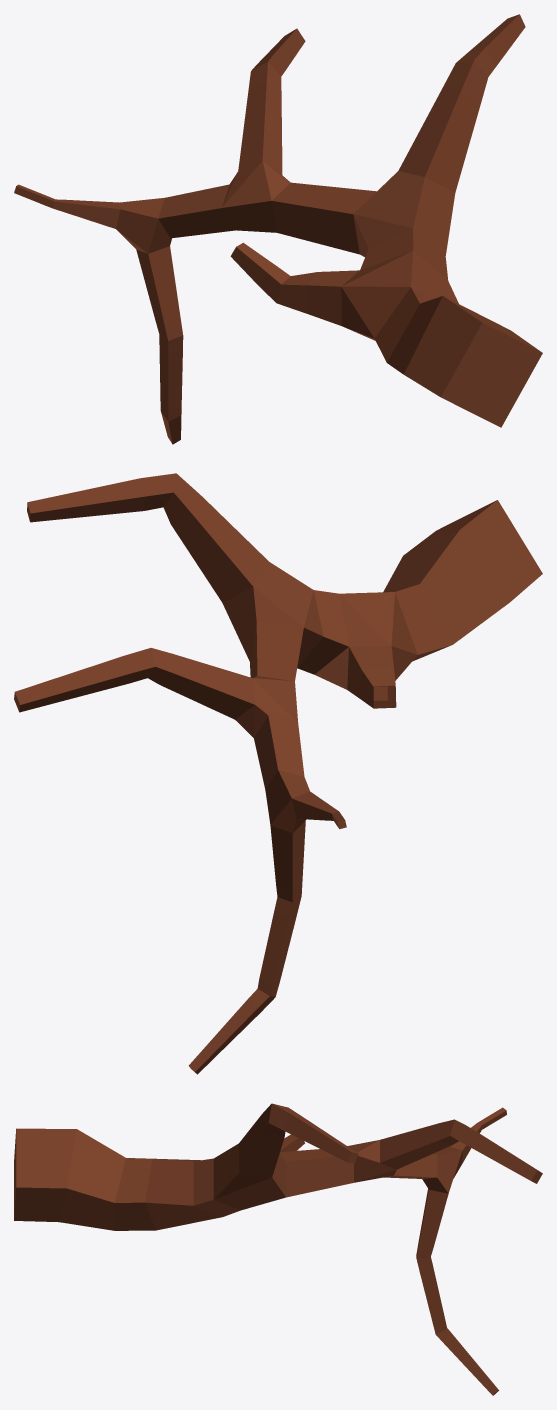
File: tree3.fbx
The picture shows the model from 3 angles, top to bottom: view 1: azimuth 30°, elevation 25°; view 2: azimuth 150°, elevation 25°; view 3: azimuth 270°, elevation 25°; orthographic projection. The views are drawn at different scales.
Parts seen in each view (by area): view 1: Cube.001; view 2: Cube.001; view 3: Cube.001.
Part boxes in pixels (x1,y1,x2,y2): Cube.001: [14, 14, 542, 444]; Cube.001: [14, 473, 542, 1074]; Cube.001: [14, 1103, 542, 1395].
Bounding box in the file's own units: 146 × 152 × 206.
